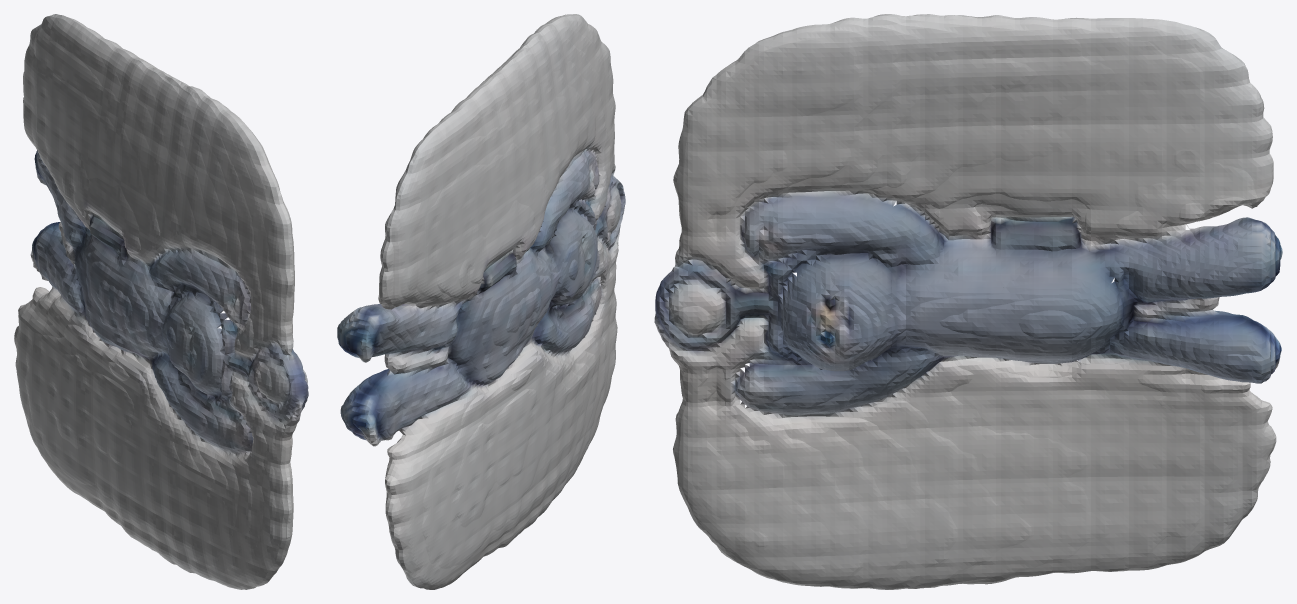
The picture shows the model from 3 angles, left to right: view 1: azimuth 30°, elevation 25°; view 2: azimuth 150°, elevation 25°; view 3: azimuth 270°, elevation 25°; orthographic projection. The views are drawn at different scales.
Parts seen in each view (by area): view 1: world; view 2: world; view 3: world.
Part boxes in pixels (x1,y1,x2,y2): world: (14,14,308,589); world: (337,14,625,589); world: (654,14,1282,589).
Size of the model in its own units: 0.1821 by 0.9192 by 0.9042.
